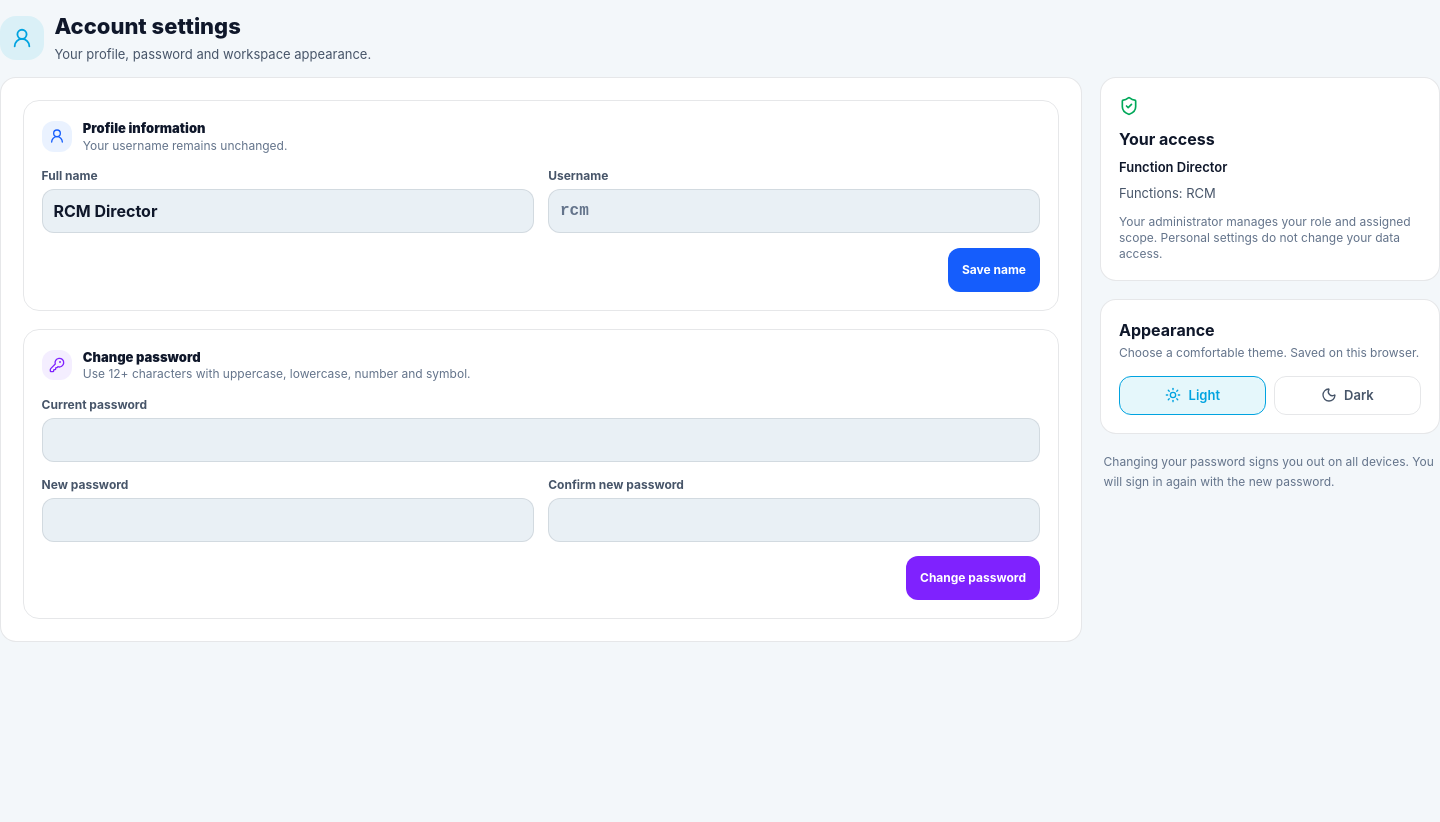
Test: personal account settings › updates only the current user display name through self-service
This screenshot has width=1440, height=822.
Replace the text in the field labelled "Full name" with "  RCM Lead  ". click: (288, 211)
box: top-left (42, 189), bottom-right (534, 233)
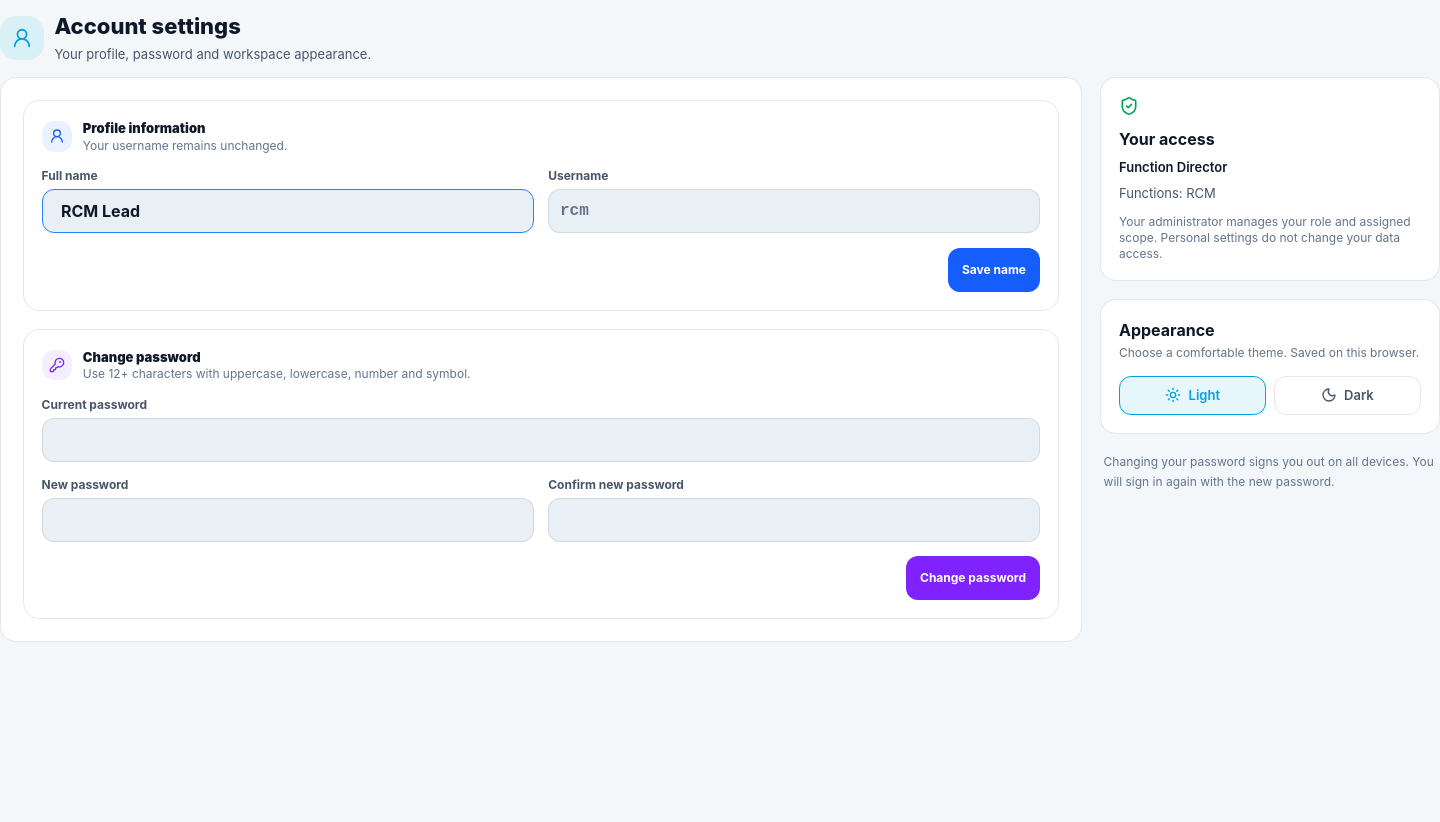
Click the button "Save name". click: (994, 270)
box: top-left (948, 248), bottom-right (1040, 292)
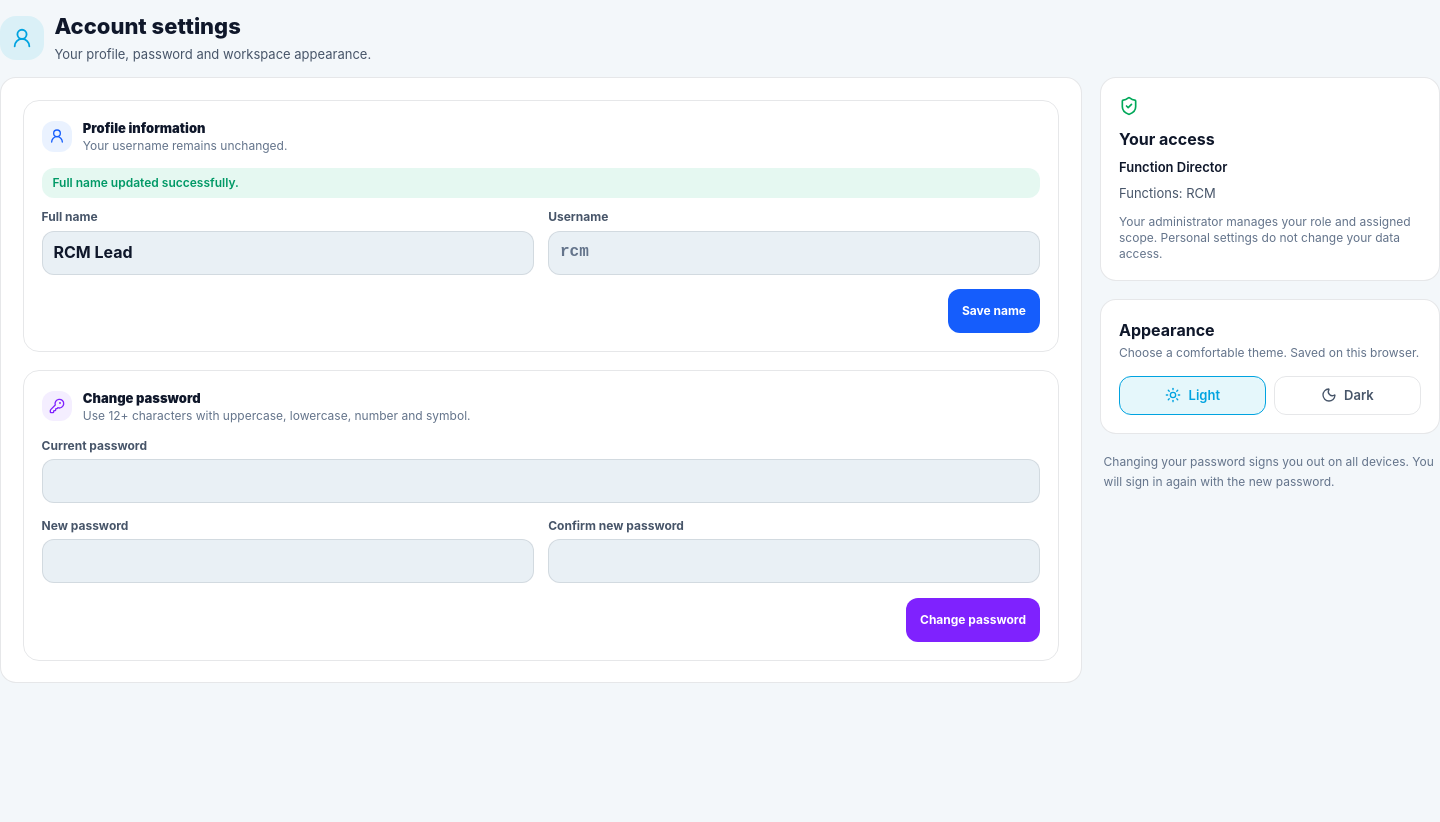
Check: the message shows "Full name updated successfully", box top-left (52, 175), bottom-right (239, 190)
